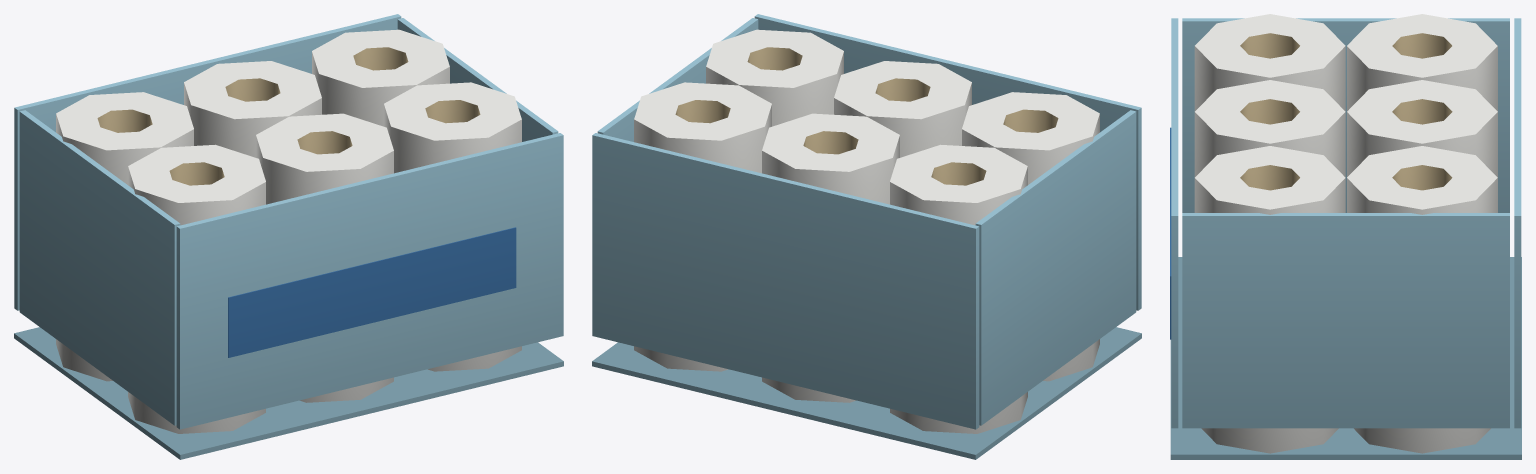
Rendered from Pack_ToiletPaper_12_01.glb.
3 renders of one model, left to right at view 1: azimuth 30°, elevation 25°; view 2: azimuth 150°, elevation 25°; view 3: azimuth 270°, elevation 25°, orthographic. The views are drawn at different scales.
Parts seen in each view (by area): view 1: SM_Pack_ToiletPaper_12_01; view 2: SM_Pack_ToiletPaper_12_01; view 3: SM_Pack_ToiletPaper_12_01.
Boxes of the visible parts, bbox=[...] form: SM_Pack_ToiletPaper_12_01: bbox=[14, 14, 563, 459]; SM_Pack_ToiletPaper_12_01: bbox=[592, 14, 1141, 459]; SM_Pack_ToiletPaper_12_01: bbox=[1170, 14, 1521, 459].
Bounding box in the file's own units: 0.4 × 0.235 × 0.3005.
1 material, 1 textured.
